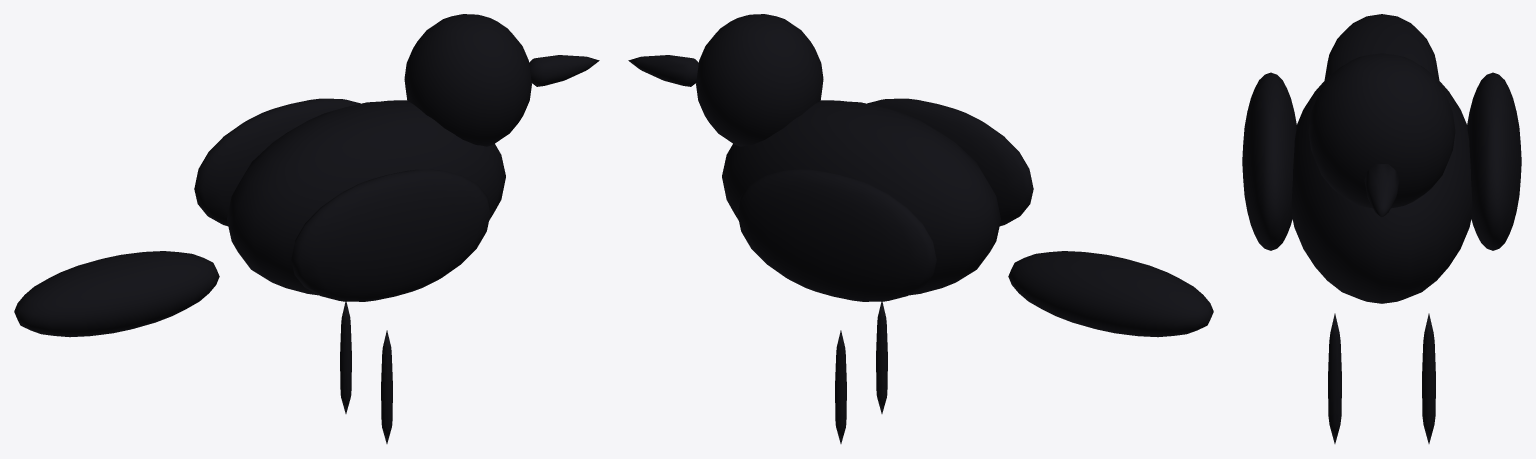
File: crow.glb
3 renders of one model, left to right at view 1: azimuth 30°, elevation 25°; view 2: azimuth 150°, elevation 25°; view 3: azimuth 270°, elevation 25°, orthographic. The views are drawn at different scales.
Visible parts, largest first — view 1: crow; view 2: crow; view 3: crow.
Part boxes in pixels (x1,y1,x2,y2): crow: (14,14,599,443); crow: (628,14,1213,443); crow: (1242,14,1521,443).
Size of the model in its own units: 0.45 by 0.2844 by 0.1631.
1 material, 1 textured.
